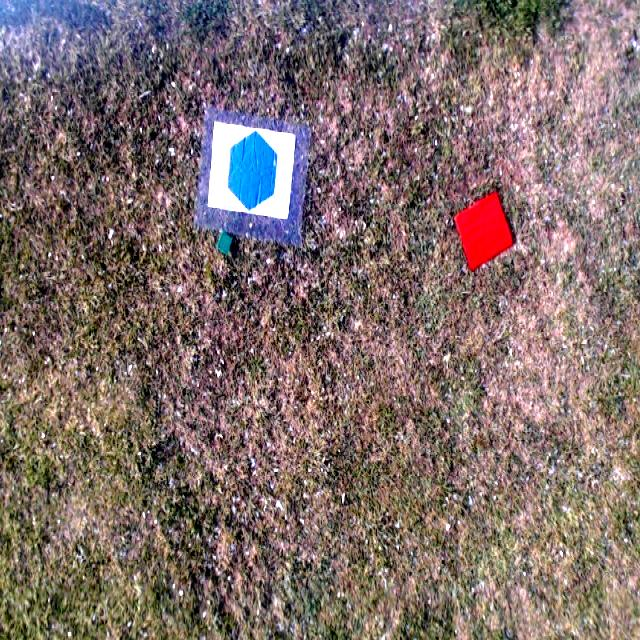blue_hexagon: (228, 127, 281, 212)
red_square: (454, 188, 514, 273)
